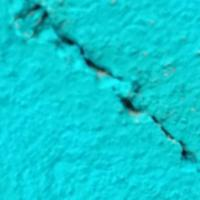crack: (16, 0, 199, 162)
